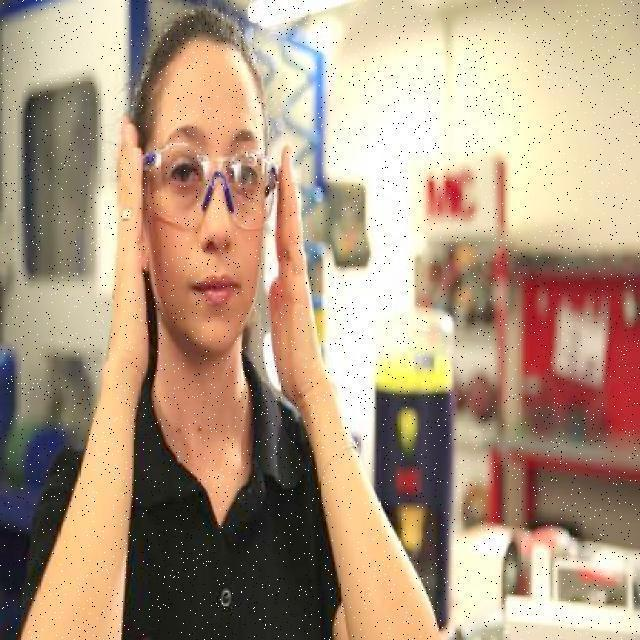Goggles: (123, 137, 299, 237)
